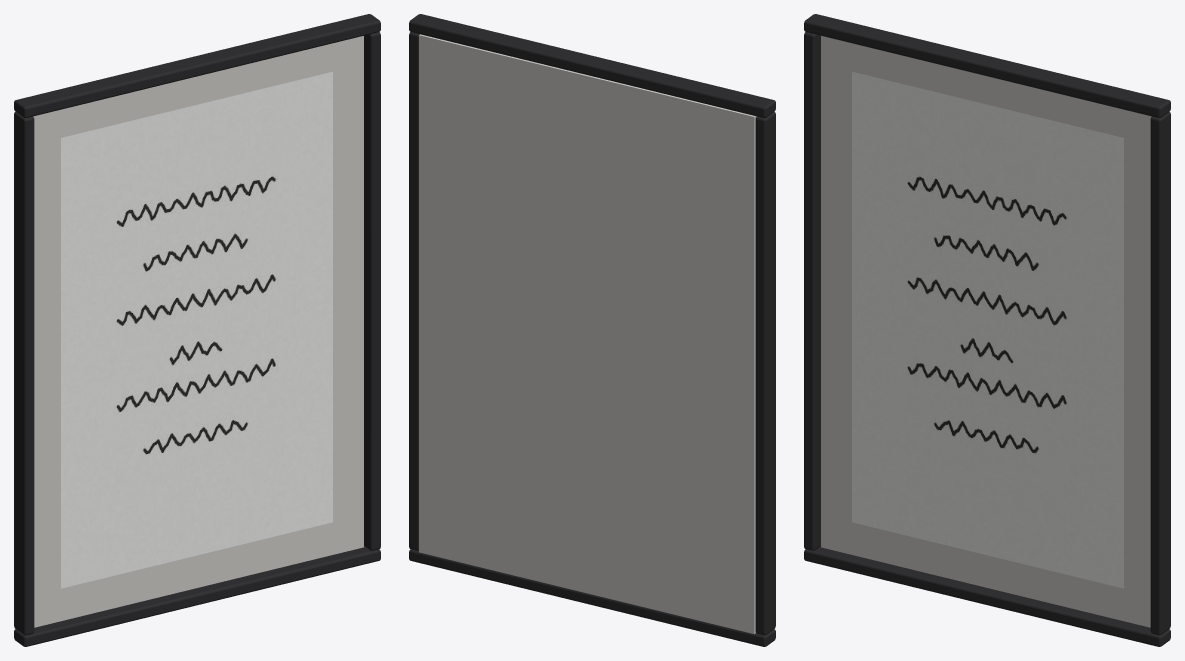
Rendered from picture_frame_quote.glb.
The picture shows the model from 3 angles, left to right: view 1: azimuth 30°, elevation 25°; view 2: azimuth 150°, elevation 25°; view 3: azimuth 330°, elevation 25°; orthographic projection.
Visible parts, largest first — view 1: picture_frame_quote_art, picture_frame_quote_mat, picture_frame_quote_frame; view 2: picture_frame_quote_mat, picture_frame_quote_frame; view 3: picture_frame_quote_art, picture_frame_quote_mat, picture_frame_quote_frame.
Part boxes in pixels (bbox=[...]): picture_frame_quote_art: bbox=[61, 71, 332, 588]; picture_frame_quote_mat: bbox=[33, 36, 363, 627]; picture_frame_quote_frame: bbox=[14, 14, 380, 646]; picture_frame_quote_mat: bbox=[419, 34, 756, 634]; picture_frame_quote_frame: bbox=[409, 14, 775, 646]; picture_frame_quote_art: bbox=[852, 71, 1123, 588]; picture_frame_quote_mat: bbox=[821, 36, 1151, 627]; picture_frame_quote_frame: bbox=[804, 14, 1170, 646].
Bounding box in the file's own units: 0.45 × 0.65 × 0.025.
Materials: 3 (1 with a texture image).
